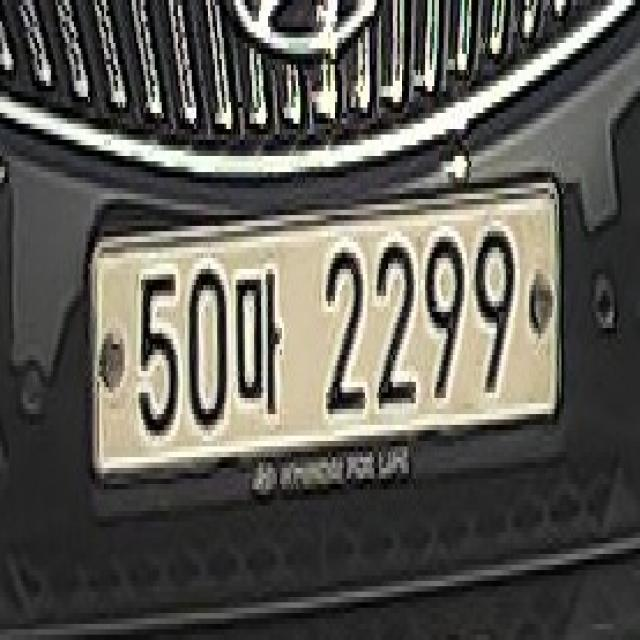0: (186, 254, 228, 426)
2: (319, 238, 371, 428), (374, 232, 420, 416)
5: (131, 260, 182, 440)
9: (474, 214, 524, 407), (425, 233, 468, 418)
license_plate: (73, 172, 574, 496)
ma: (235, 260, 290, 422)
